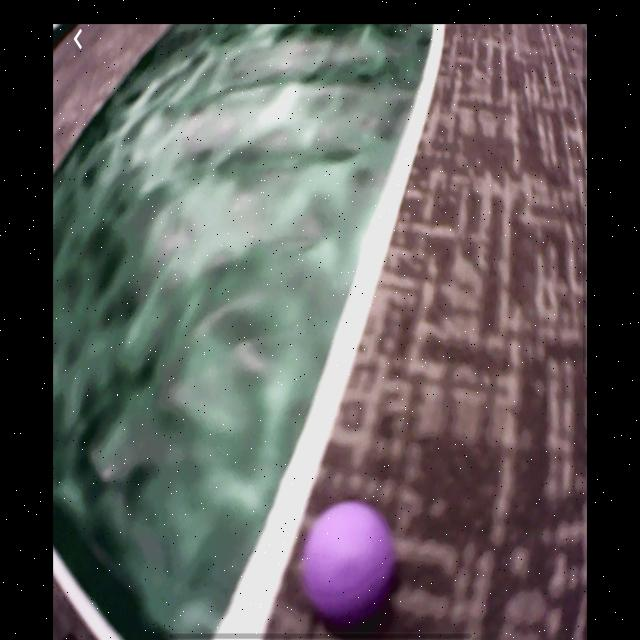ball: (307, 499, 390, 614)
